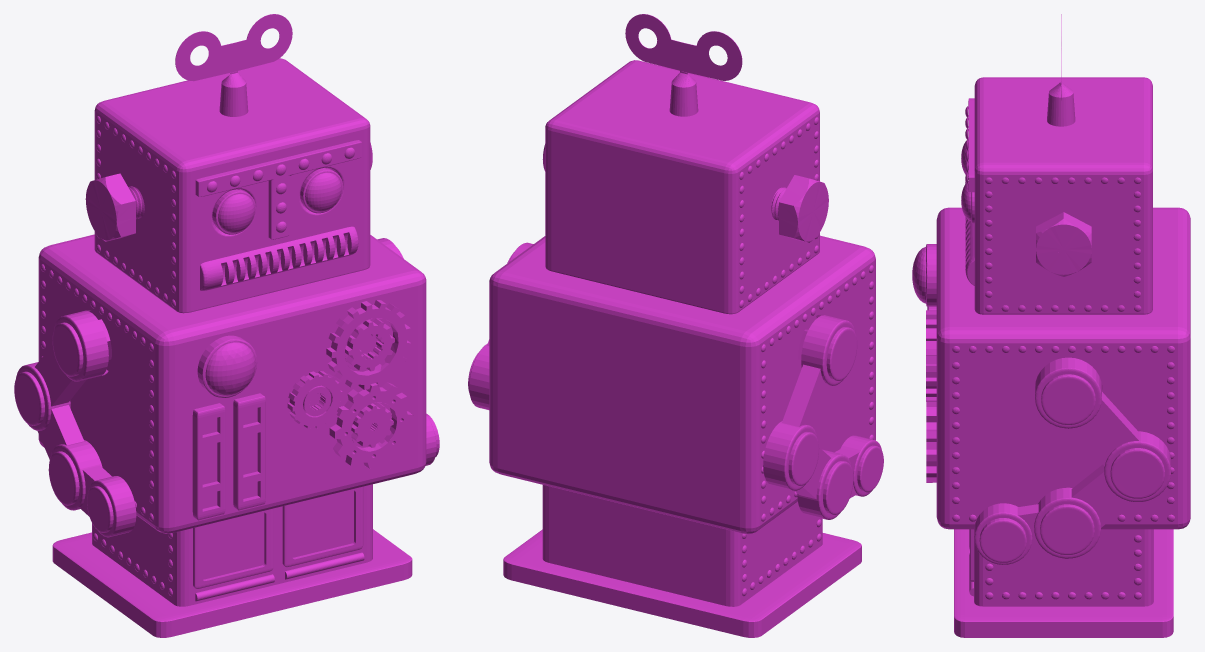
File: robot.glb
3 views of the same model, side by side, from view 1: azimuth 30°, elevation 25°; view 2: azimuth 150°, elevation 25°; view 3: azimuth 270°, elevation 25° (orthographic).
Visible parts, largest first — view 1: body, body-face, leg-body, bottom, mouse, bolt-top, face-t, body-box-2, body-box1, bolt2, bolt1-front, Bolt-left (+24 smaller); view 2: body, body-face, leg-body, bottom, bolt-top, Bolt-left, arm-left4, arm-left5, arm-left1, arm-left2, arm-left9, arm-left6 (+6 smaller); view 3: body, body-face, leg-body, bottom, Bolt-right, arm-right6, arm-right2, arm-right9, arm-right4, arm-right1, arm-right12, arm-right7 (+17 smaller).
Part boxes in pixels (left/top/right/bottom): body: left=38, top=234, right=426, bottom=533; body-face: left=94, top=58, right=370, bottom=313; leg-body: left=92, top=484, right=372, bottom=606; bottom: left=52, top=529, right=412, bottom=637; mouse: left=200, top=226, right=358, bottom=290; bolt-top: left=175, top=14, right=292, bottom=81; face-t: left=195, top=140, right=362, bottom=239; body-box-2: left=192, top=403, right=225, bottom=520; body-box1: left=233, top=393, right=265, bottom=510; bolt2: left=329, top=382, right=413, bottom=468; bolt1-front: left=326, top=300, right=411, bottom=389; Bolt-left: left=85, top=173, right=144, bottom=241; body: left=489, top=235, right=875, bottom=534; body-face: left=545, top=60, right=819, bottom=314; leg-body: left=542, top=485, right=822, bottom=606; bottom: left=503, top=529, right=861, bottom=637; bolt-top: left=625, top=14, right=742, bottom=80; Bolt-left: left=771, top=175, right=828, bottom=242; arm-left4: left=782, top=364, right=836, bottom=437; arm-left5: left=763, top=421, right=817, bottom=490; arm-left1: left=801, top=315, right=855, bottom=385; arm-left2: left=826, top=327, right=857, bottom=380; arm-left9: left=823, top=461, right=853, bottom=514; arm-left6: left=788, top=432, right=819, bottom=485; body: left=936, top=207, right=1190, bottom=529; body-face: left=974, top=77, right=1152, bottom=314; leg-body: left=974, top=529, right=1153, bottom=606; bottom: left=954, top=529, right=1173, bottom=637; Bolt-right: left=1036, top=212, right=1091, bottom=276; arm-right6: left=1110, top=448, right=1164, bottom=498; arm-right2: left=1041, top=374, right=1095, bottom=424; arm-right9: left=1040, top=504, right=1094, bottom=554; arm-right4: left=1070, top=392, right=1139, bottom=466; arm-right1: left=1035, top=357, right=1101, bottom=428; arm-right12: left=979, top=518, right=1026, bottom=562; arm-right7: left=1071, top=464, right=1133, bottom=527.
Size of the model in its own units: 4.21 by 6.66 by 3.1.
